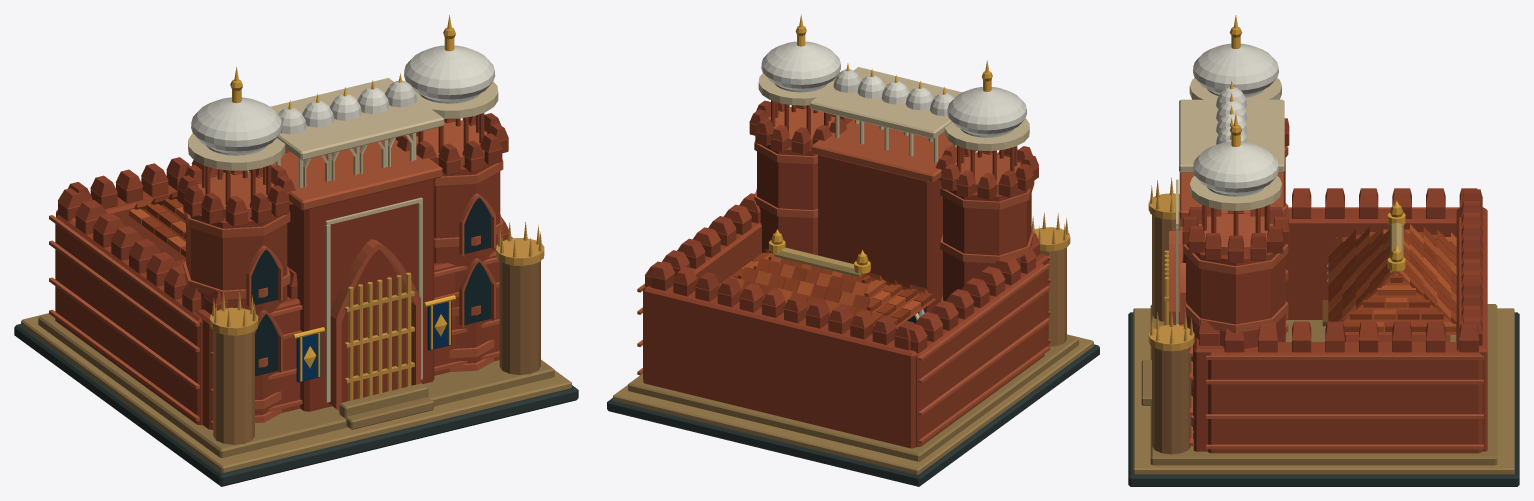
3 views of the same model, side by side, from view 1: azimuth 30°, elevation 25°; view 2: azimuth 150°, elevation 25°; view 3: azimuth 270°, elevation 25° (orthographic). The views are drawn at different scales.
Parts seen in each view (by area): view 1: barracks_L3_0, barracks_L3_1; view 2: barracks_L3_0, barracks_L3_1; view 3: barracks_L3_0, barracks_L3_1.
Boxes of the visible parts, x1=… form: barracks_L3_0: x1=14, y1=27, x2=578, y2=486; barracks_L3_1: x1=210, y1=15, x2=544, y2=400; barracks_L3_0: x1=607, y1=26, x2=1099, y2=486; barracks_L3_1: x1=769, y1=14, x2=1070, y2=273; barracks_L3_0: x1=1128, y1=27, x2=1519, y2=486; barracks_L3_1: x1=1148, y1=15, x2=1405, y2=351.
Size of the model in its own units: 5.6 by 5.41 by 5.6.
